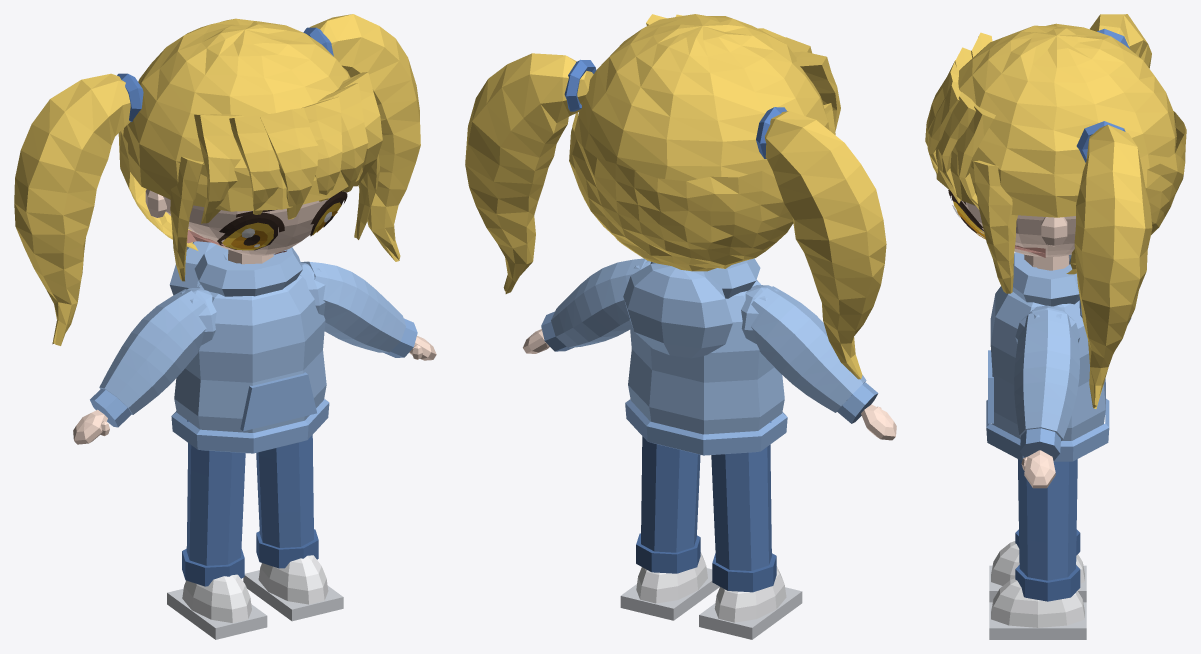
The model's file is heroine_v1.glb.
3 views of the same model, side by side, from view 1: azimuth 30°, elevation 25°; view 2: azimuth 150°, elevation 25°; view 3: azimuth 270°, elevation 25° (orthographic). The views are drawn at different scales.
Parts seen in each view (by area): view 1: Hair_Top, Hair_Tail_R, Hoodie_Body, Hair_Tail_L, Sleeve_R, Leg_R, Leg_L, Sleeve_L, Hoodie_Collar, Hair_Bang_2, Hoodie_Hem, Hair_Bang_0 (+21 smaller); view 2: Hair_Top, Hair_Tail_R, Hair_Back, Hair_Tail_L, Hoodie_Body, Hoodie_Hood, Sleeve_R, Leg_R, Leg_L, Sleeve_L, Hoodie_Hem, Shoe_R_Upper (+11 smaller); view 3: Hair_Top, Hair_Tail_L, Sleeve_L, Leg_L, Hoodie_Body, Hair_SideLock_L, Shoe_L_Upper, Hair_Back, Hoodie_Collar, Hoodie_Hem, Face, Shoe_L_Sole (+15 smaller).
Part boxes in pixels (box(x1,y1,x2,y2)): Hair_Top: box(123, 18, 362, 211); Hair_Tail_R: box(14, 73, 130, 345); Hoodie_Body: box(174, 275, 326, 432); Hair_Tail_L: box(309, 14, 420, 261); Sleeve_R: box(99, 289, 206, 414); Leg_R: box(186, 443, 245, 565); Leg_L: box(256, 435, 313, 547); Sleeve_L: box(301, 261, 405, 352); Hoodie_Collar: box(194, 244, 302, 296); Hair_Bang_2: box(260, 108, 318, 219); Hoodie_Hem: box(171, 399, 329, 453); Hair_Bang_0: box(194, 114, 243, 223); Hair_Top: box(574, 14, 829, 181); Hair_Tail_R: box(765, 111, 886, 379); Hair_Back: box(569, 112, 793, 271); Hair_Tail_L: box(465, 53, 593, 293); Hoodie_Body: box(628, 280, 784, 434); Hoodie_Hood: box(623, 263, 732, 358); Sleeve_R: box(751, 286, 866, 412); Leg_R: box(711, 444, 771, 570); Leg_L: box(641, 436, 700, 552); Sleeve_L: box(551, 258, 646, 347); Hoodie_Hem: box(625, 399, 787, 455); Shoe_R_Upper: box(714, 566, 786, 622); Hair_Top: box(935, 23, 1176, 217); Hair_Tail_L: box(1074, 124, 1152, 408); Sleeve_L: box(1014, 309, 1079, 440); Leg_L: box(1018, 459, 1077, 580); Hoodie_Body: box(990, 286, 1105, 440); Hair_SideLock_L: box(973, 160, 1017, 293); Shoe_L_Upper: box(991, 578, 1084, 627); Hair_Back: box(1066, 111, 1186, 274); Hoodie_Collar: box(1012, 252, 1079, 306); Hoodie_Hem: box(986, 398, 1109, 461); Face: box(961, 200, 1075, 256); Shoe_L_Sole: box(989, 603, 1086, 639).
Size of the model in its own units: 0.713 by 0.9718 by 0.4023.
